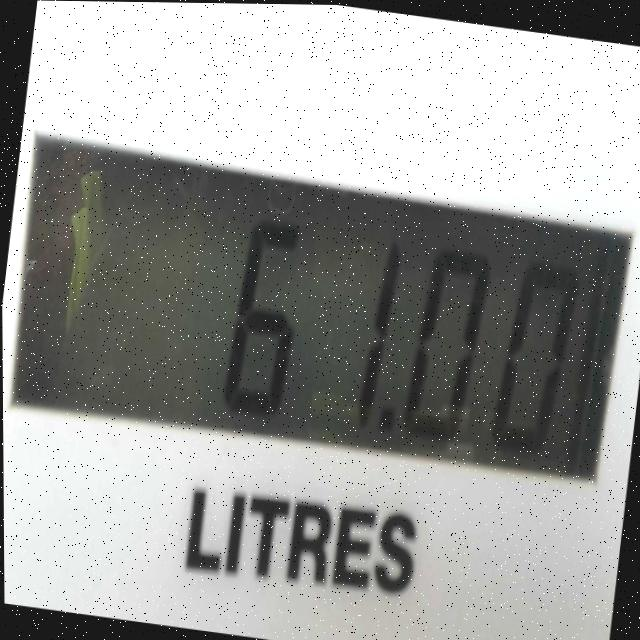.: (368, 392, 406, 456)
0: (391, 227, 499, 471), (474, 240, 589, 463)
1: (332, 221, 409, 448)
6: (202, 203, 329, 415)
